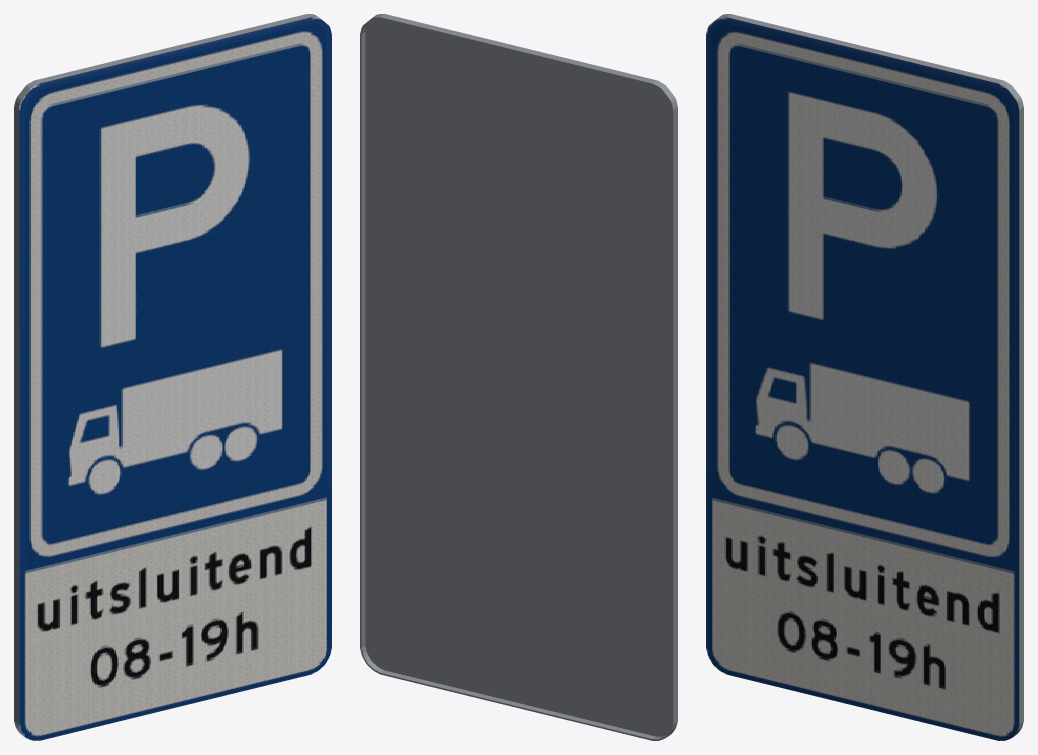
The picture shows the model from 3 angles, left to right: view 1: azimuth 30°, elevation 25°; view 2: azimuth 150°, elevation 25°; view 3: azimuth 330°, elevation 25°; orthographic projection.
Visible parts, largest first — view 1: cat_407f849c820ba151; view 2: cat_407f849c820ba151; view 3: cat_407f849c820ba151.
Boxes of the visible parts, x1,y1,x2,y2 form: cat_407f849c820ba151: (14,14,331,740); cat_407f849c820ba151: (360,14,677,740); cat_407f849c820ba151: (706,14,1023,740).
Bounding box in the file's own units: 0.6 × 0.015 × 1.2.
2 materials, 1 textured.
